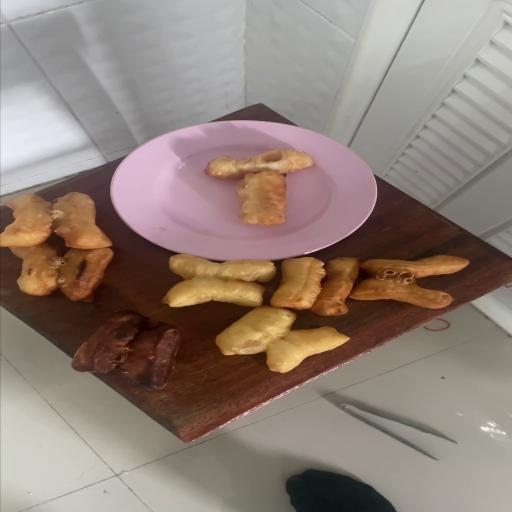street_golden_good: (163, 254, 348, 373), (0, 276, 229, 289), (237, 171, 286, 225), (284, 258, 323, 307)
